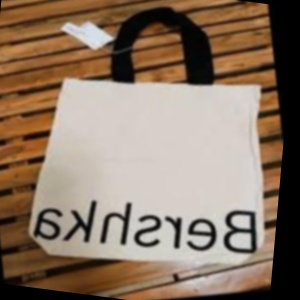bershka: (0, 81, 286, 300)
